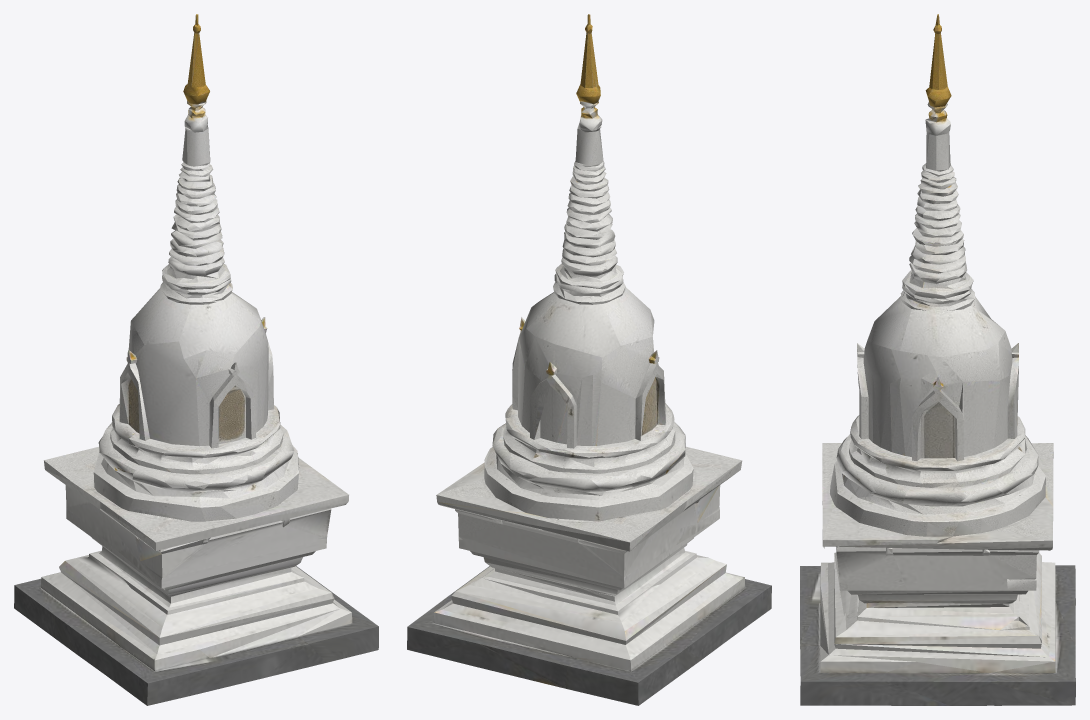
File: temple_chedi.glb
The picture shows the model from 3 angles, left to right: view 1: azimuth 30°, elevation 25°; view 2: azimuth 150°, elevation 25°; view 3: azimuth 270°, elevation 25°; orthographic projection. The views are drawn at different scales.
Parts seen in each view (by area): view 1: temple_chedi; view 2: temple_chedi; view 3: temple_chedi.
Boxes of the visible parts, bbox=[...] form: temple_chedi: bbox=[14, 14, 378, 705]; temple_chedi: bbox=[407, 14, 771, 705]; temple_chedi: bbox=[800, 14, 1075, 705].
Bounding box in the file's own units: 3.94 × 10 × 3.94.
Materials: 1 (1 with a texture image).
